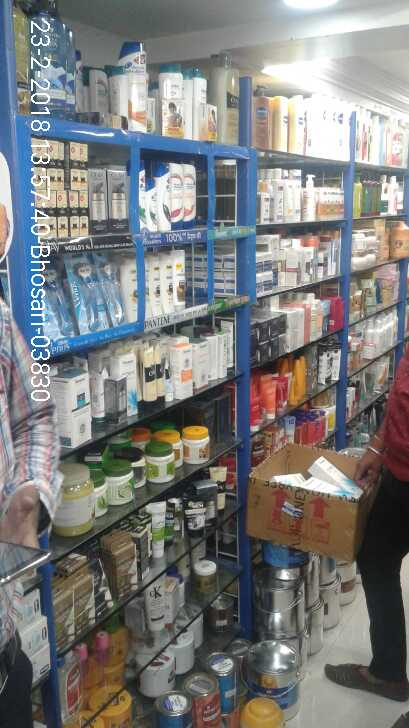venus: (73, 257, 105, 326), (47, 257, 73, 336), (105, 253, 124, 326)
